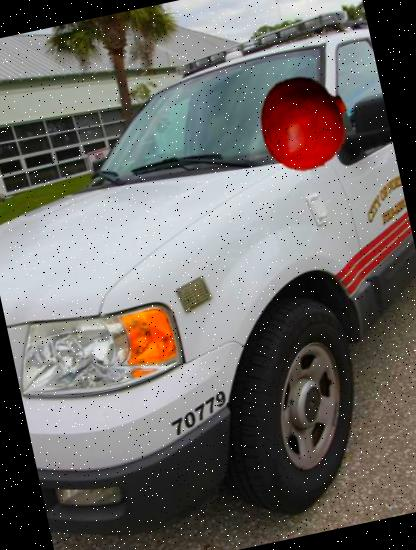Pomegranate: (246, 65, 362, 180)
